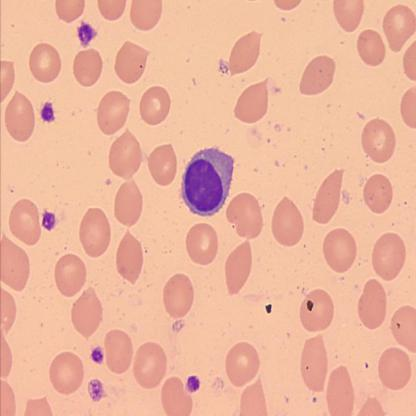Atypical lymphocyte: (182, 149, 235, 218)
